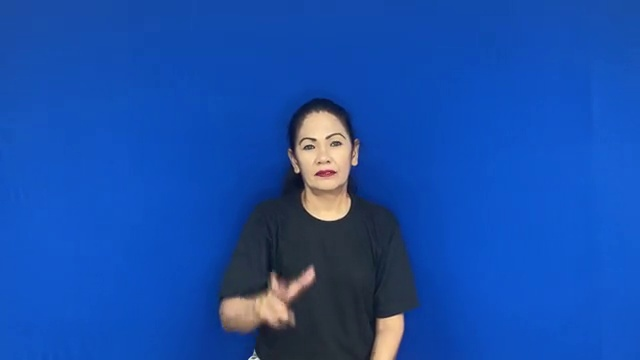chicken: (246, 258, 327, 337)
